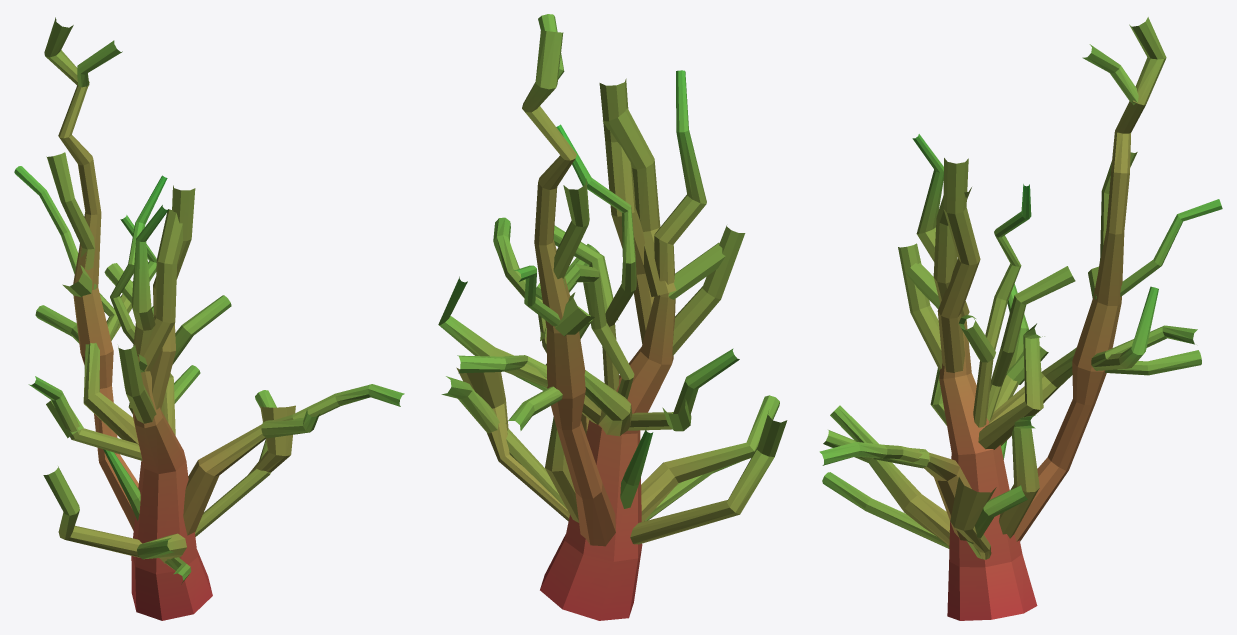
File: Leaf-off-aerial.glb
The picture shows the model from 3 angles, left to right: view 1: azimuth 30°, elevation 25°; view 2: azimuth 150°, elevation 25°; view 3: azimuth 270°, elevation 25°; orthographic projection. The views are drawn at different scales.
Parts seen in each view (by area): view 1: model; view 2: model; view 3: model.
Boxes of the visible parts, box(x1,y1,x2,y2) form: model: box(14, 17, 404, 620); model: box(438, 14, 787, 620); model: box(819, 17, 1222, 620).
Size of the model in its own units: 4.13 by 7.09 by 4.45.
